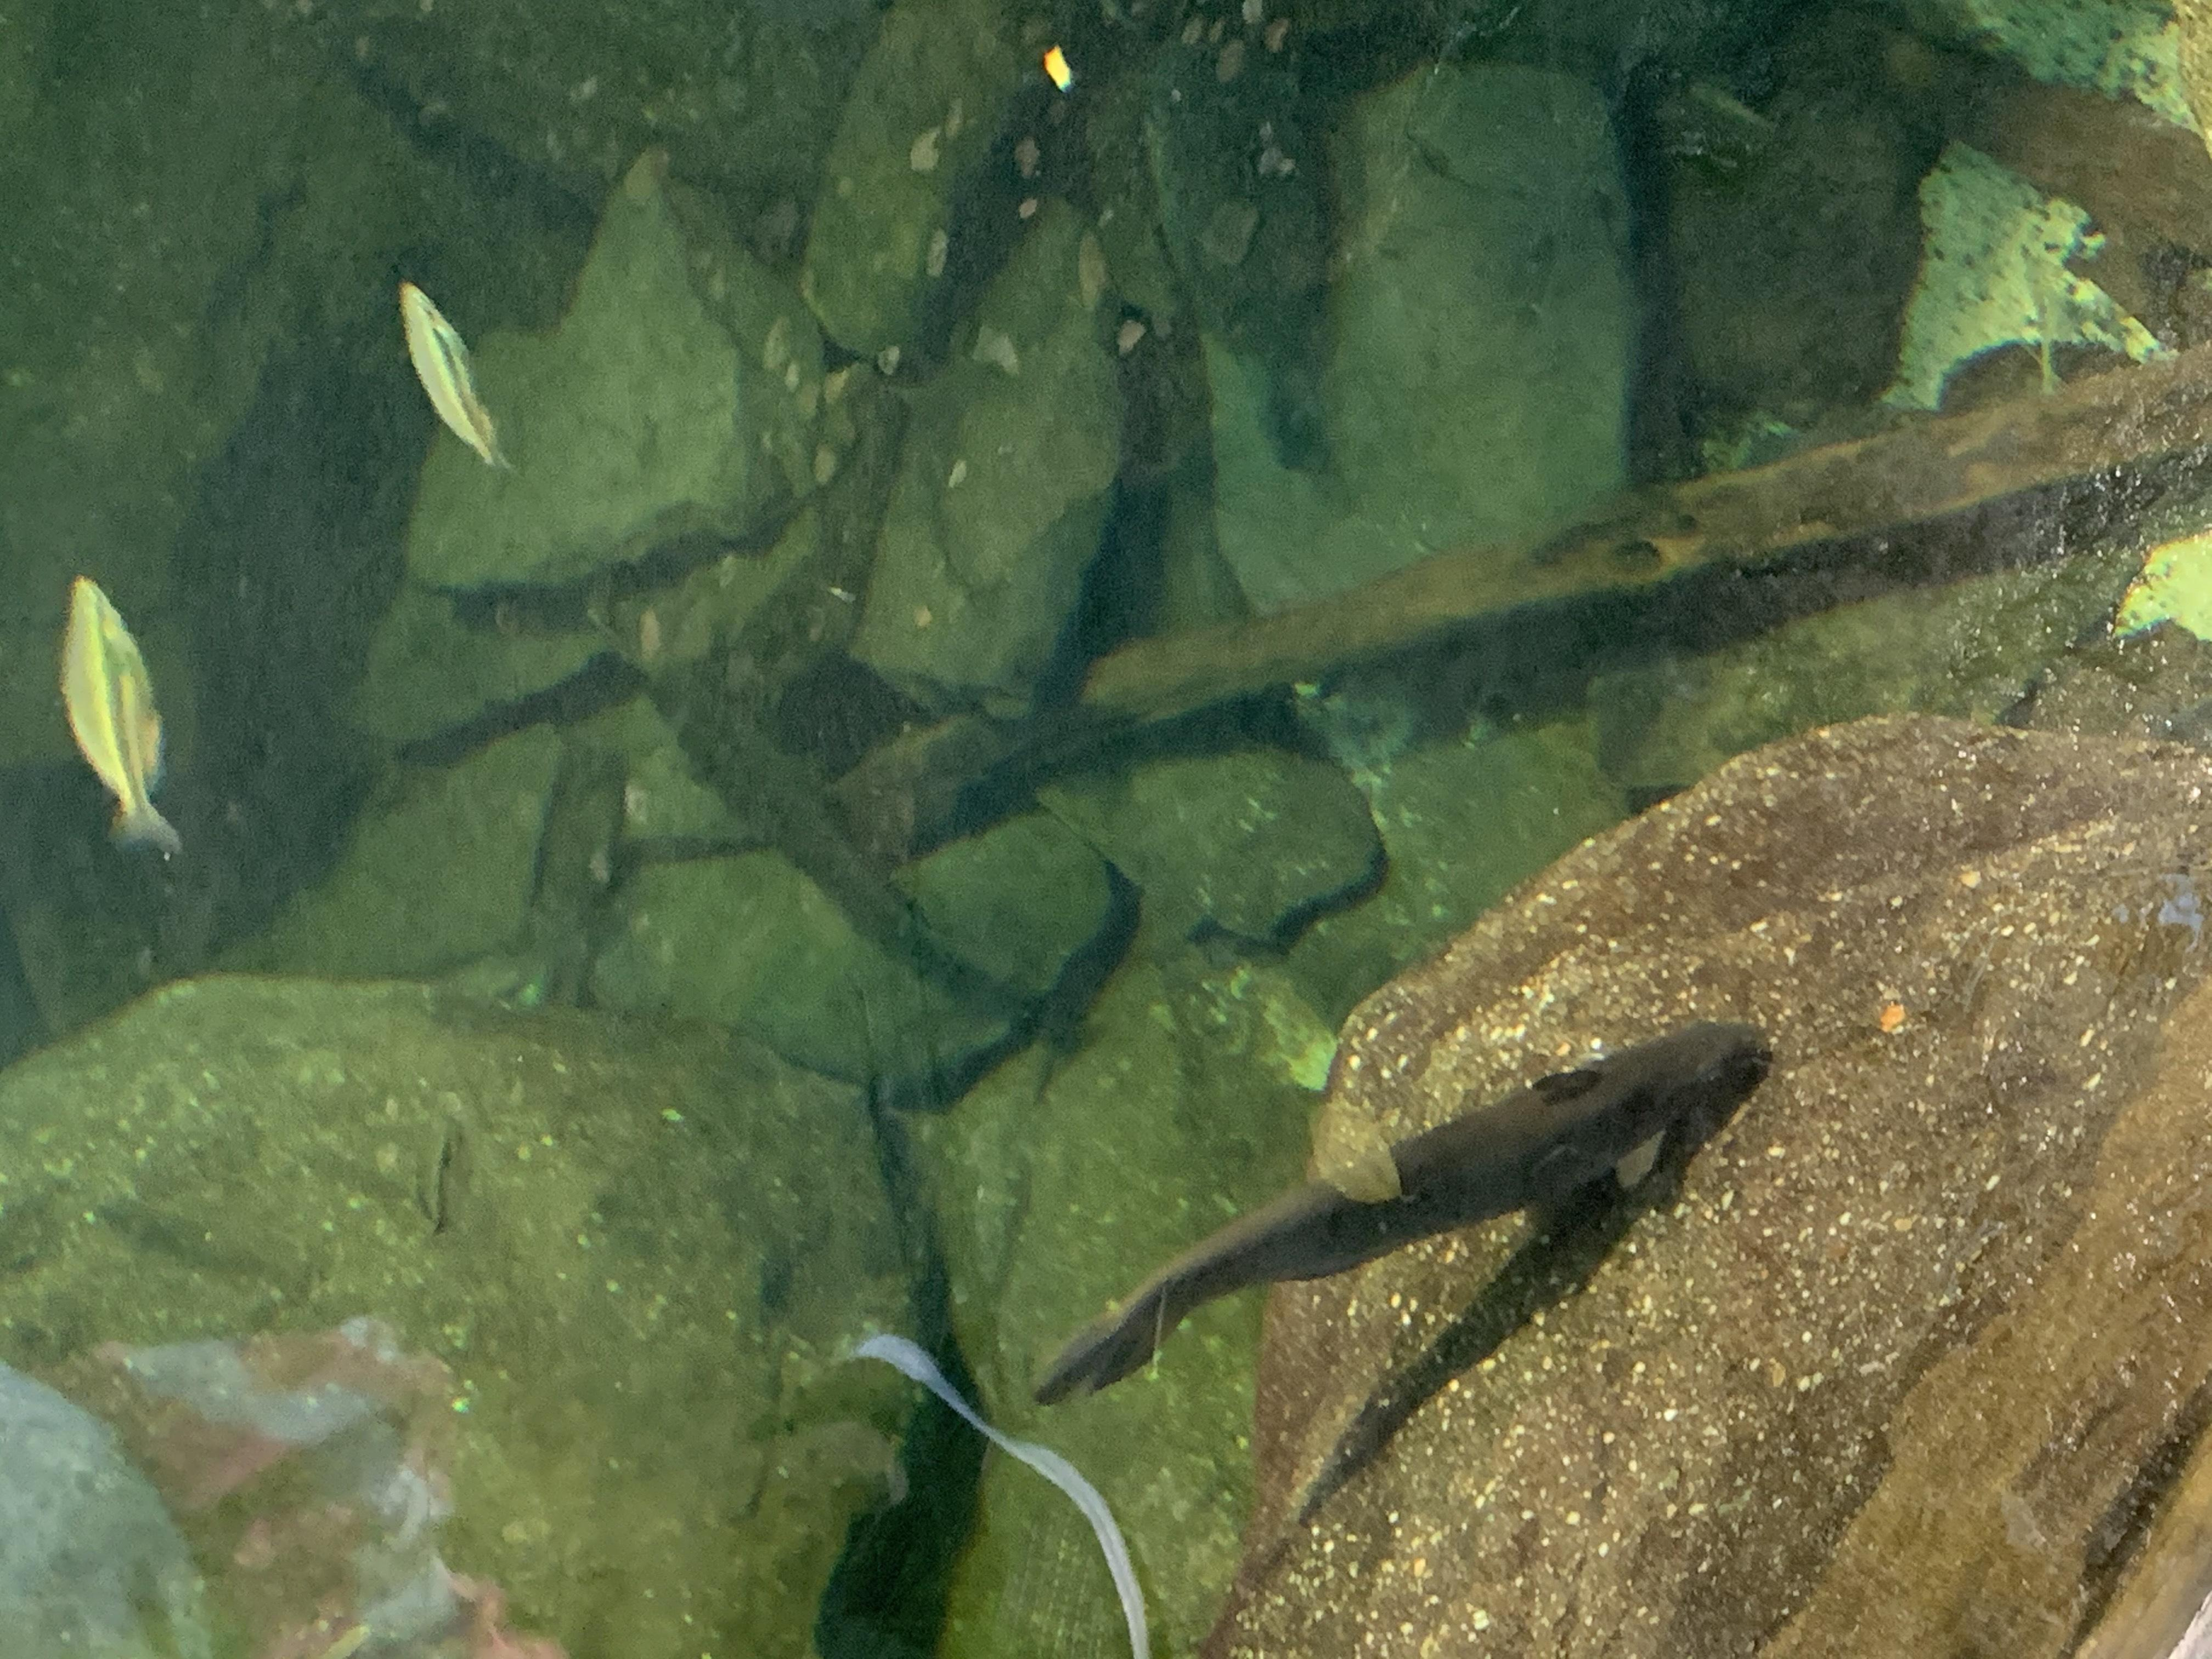fish: (1026, 1012, 1778, 1425), (56, 568, 190, 863), (387, 272, 528, 469)
